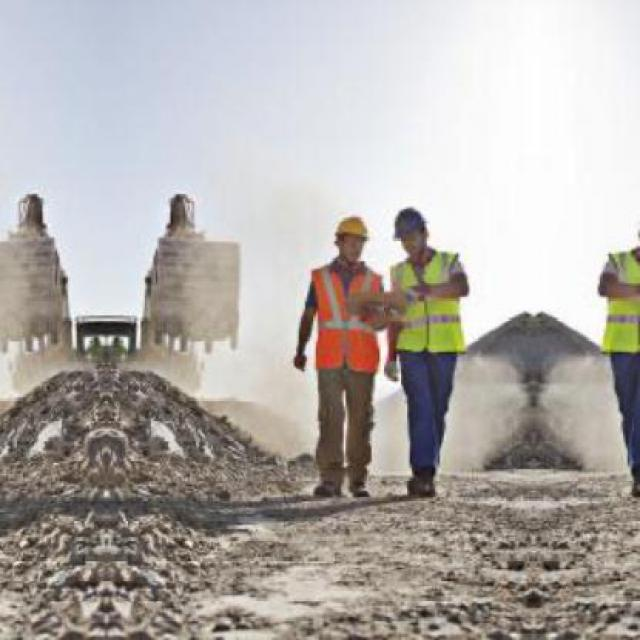Reflective-Jacket: (389, 248, 478, 360), (301, 258, 384, 377), (592, 243, 640, 362)
Safety-Helmet: (384, 200, 438, 246), (322, 206, 377, 249)
